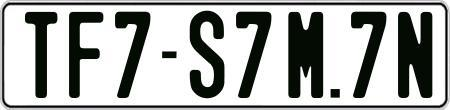7: (349, 12, 389, 102), (233, 9, 270, 97), (115, 10, 150, 102)
F: (66, 12, 104, 103)
M: (285, 11, 320, 98)
N: (398, 10, 433, 102)
S: (187, 9, 222, 101)
T: (25, 10, 61, 102)
